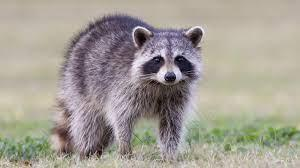raccoon: (31, 5, 225, 165)
